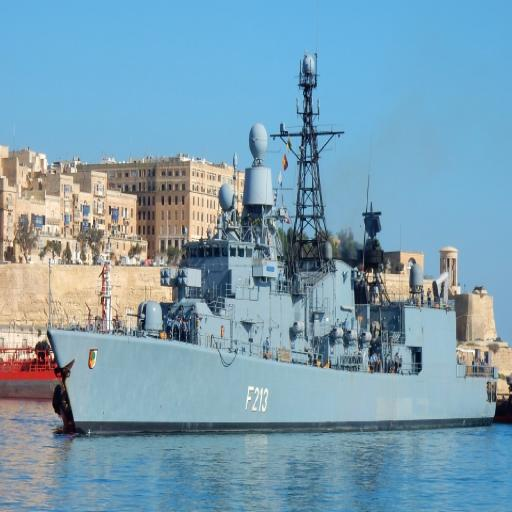Fragata: (43, 47, 500, 447)
